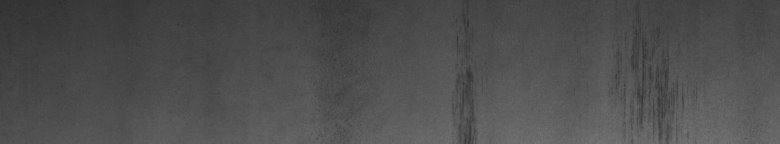ka: (615, 44, 688, 136)
